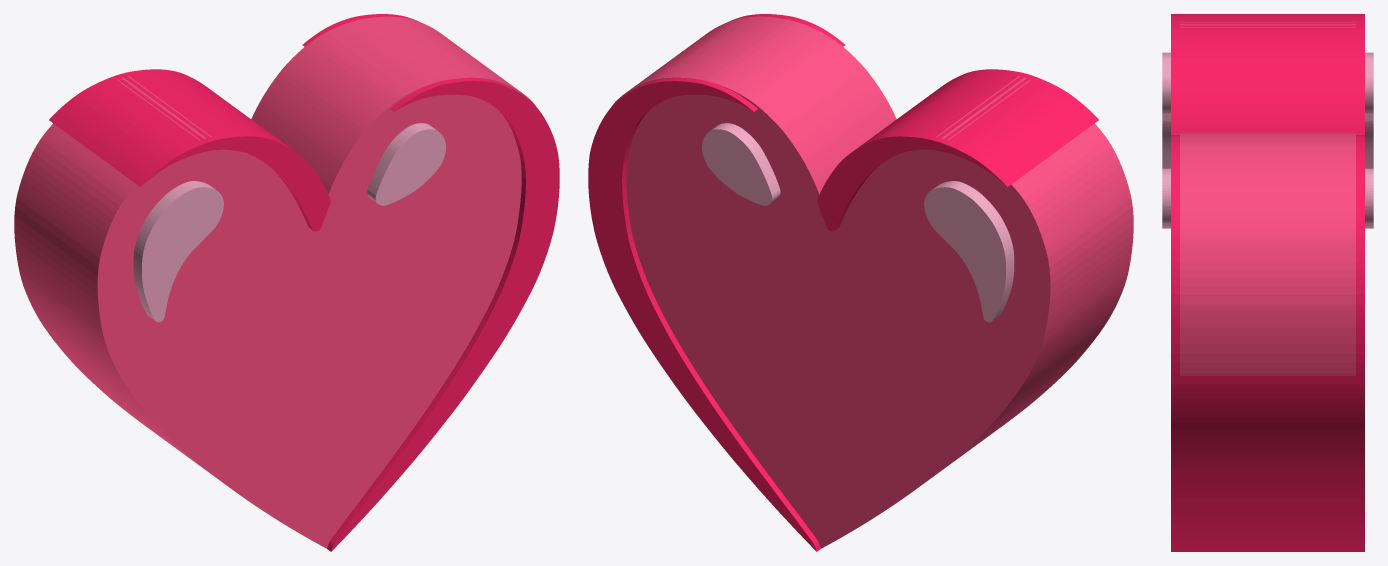
The picture shows the model from 3 angles, left to right: view 1: azimuth 30°, elevation 25°; view 2: azimuth 150°, elevation 25°; view 3: azimuth 270°, elevation 25°; orthographic projection. The views are drawn at different scales.
Parts seen in each view (by area): view 1: U+1FA77_layer00_obj00, U+1FA77_layer01_obj00, U+1FA77_layer01_obj01, U+1FA77_layer02_obj00, U+1FA77_layer02_obj01; view 2: U+1FA77_layer00_obj00, U+1FA77_layer01_obj00, U+1FA77_layer01_obj01, U+1FA77_layer02_obj00, U+1FA77_layer02_obj01; view 3: U+1FA77_layer00_obj00, U+1FA77_layer01_obj01, U+1FA77_layer01_obj00, U+1FA77_layer02_obj00, U+1FA77_layer02_obj01.
Boxes of the visible parts, x1=… form: U+1FA77_layer00_obj00: x1=14, y1=16, x2=536, y2=548; U+1FA77_layer01_obj00: x1=49, y1=69, x2=330, y2=231; U+1FA77_layer01_obj01: x1=302, y1=14, x2=559, y2=551; U+1FA77_layer02_obj00: x1=133, y1=181, x2=223, y2=322; U+1FA77_layer02_obj01: x1=367, y1=123, x2=445, y2=205; U+1FA77_layer00_obj00: x1=611, y1=16, x2=1133, y2=548; U+1FA77_layer01_obj00: x1=817, y1=69, x2=1098, y2=231; U+1FA77_layer01_obj01: x1=588, y1=14, x2=845, y2=551; U+1FA77_layer02_obj00: x1=924, y1=181, x2=1014, y2=322; U+1FA77_layer02_obj01: x1=702, y1=123, x2=780, y2=205; U+1FA77_layer00_obj00: x1=1180, y1=22, x2=1355, y2=375; U+1FA77_layer01_obj01: x1=1171, y1=135, x2=1364, y2=551; U+1FA77_layer01_obj00: x1=1171, y1=14, x2=1364, y2=134; U+1FA77_layer02_obj00: x1=1162, y1=52, x2=1373, y2=168; U+1FA77_layer02_obj01: x1=1162, y1=168, x2=1373, y2=228.
Bounding box in the file's own units: 0.3174 × 0.2912 × 0.12.
